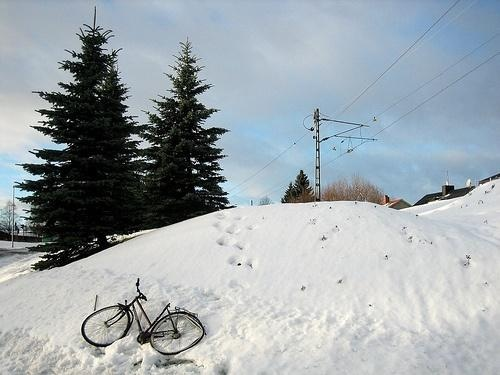bicycle: (81, 279, 207, 356)
